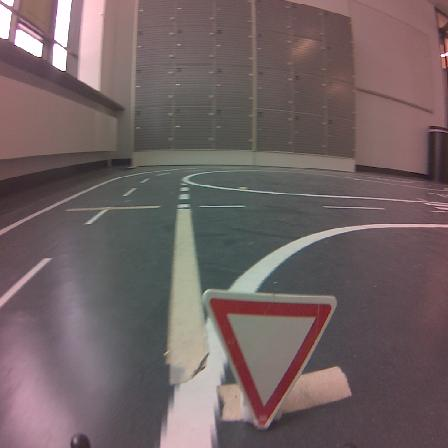GIVE_WAY: (203, 290, 335, 428)
